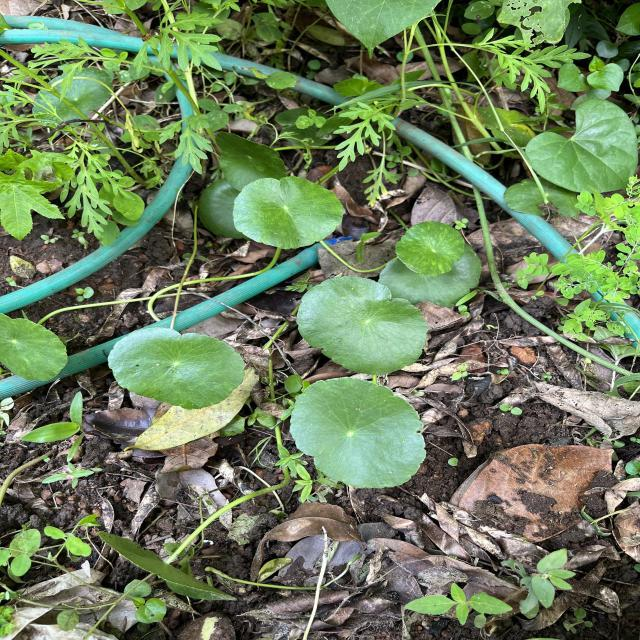Bacopa monnieri: (288, 375, 428, 490), (294, 274, 430, 376), (106, 326, 247, 412), (231, 174, 346, 251), (1, 310, 70, 382), (394, 219, 466, 278)
